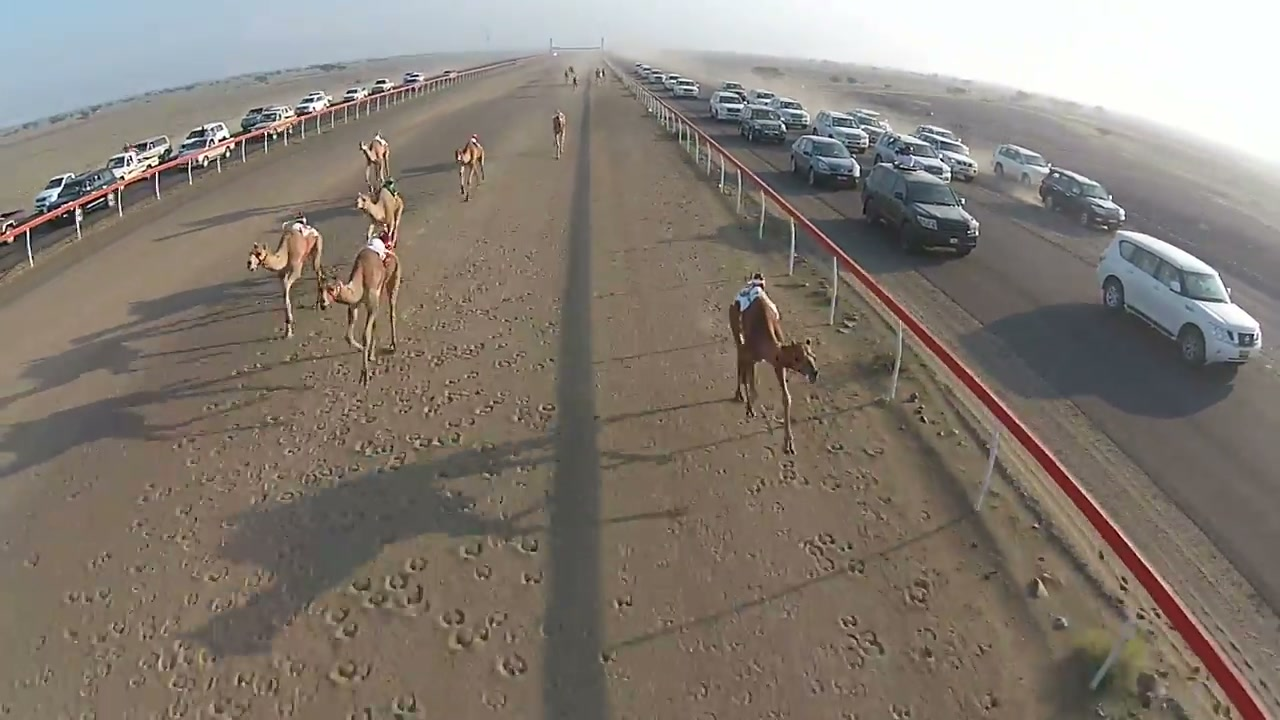animal_foot_print: (52, 228, 577, 719), (845, 629, 886, 668), (802, 535, 837, 576), (393, 583, 430, 615), (447, 625, 490, 651), (910, 627, 938, 665), (328, 660, 372, 684), (204, 696, 249, 719), (390, 694, 424, 719), (904, 578, 931, 608), (497, 653, 528, 677), (385, 571, 416, 591), (439, 608, 467, 628), (481, 689, 507, 710), (324, 606, 350, 625), (512, 536, 539, 554), (334, 620, 359, 639), (459, 541, 482, 559), (348, 578, 372, 595), (486, 610, 507, 628), (838, 615, 858, 632), (613, 593, 632, 610), (846, 559, 866, 575), (521, 570, 542, 584), (473, 565, 492, 579), (599, 650, 616, 664)
